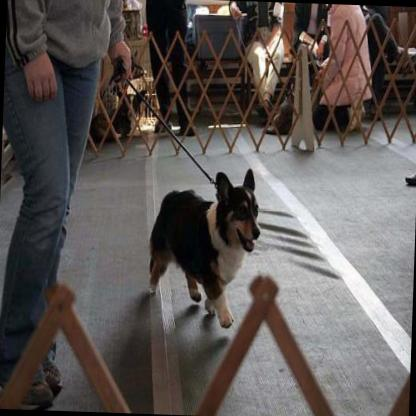Cardigan: (145, 165, 266, 327)
